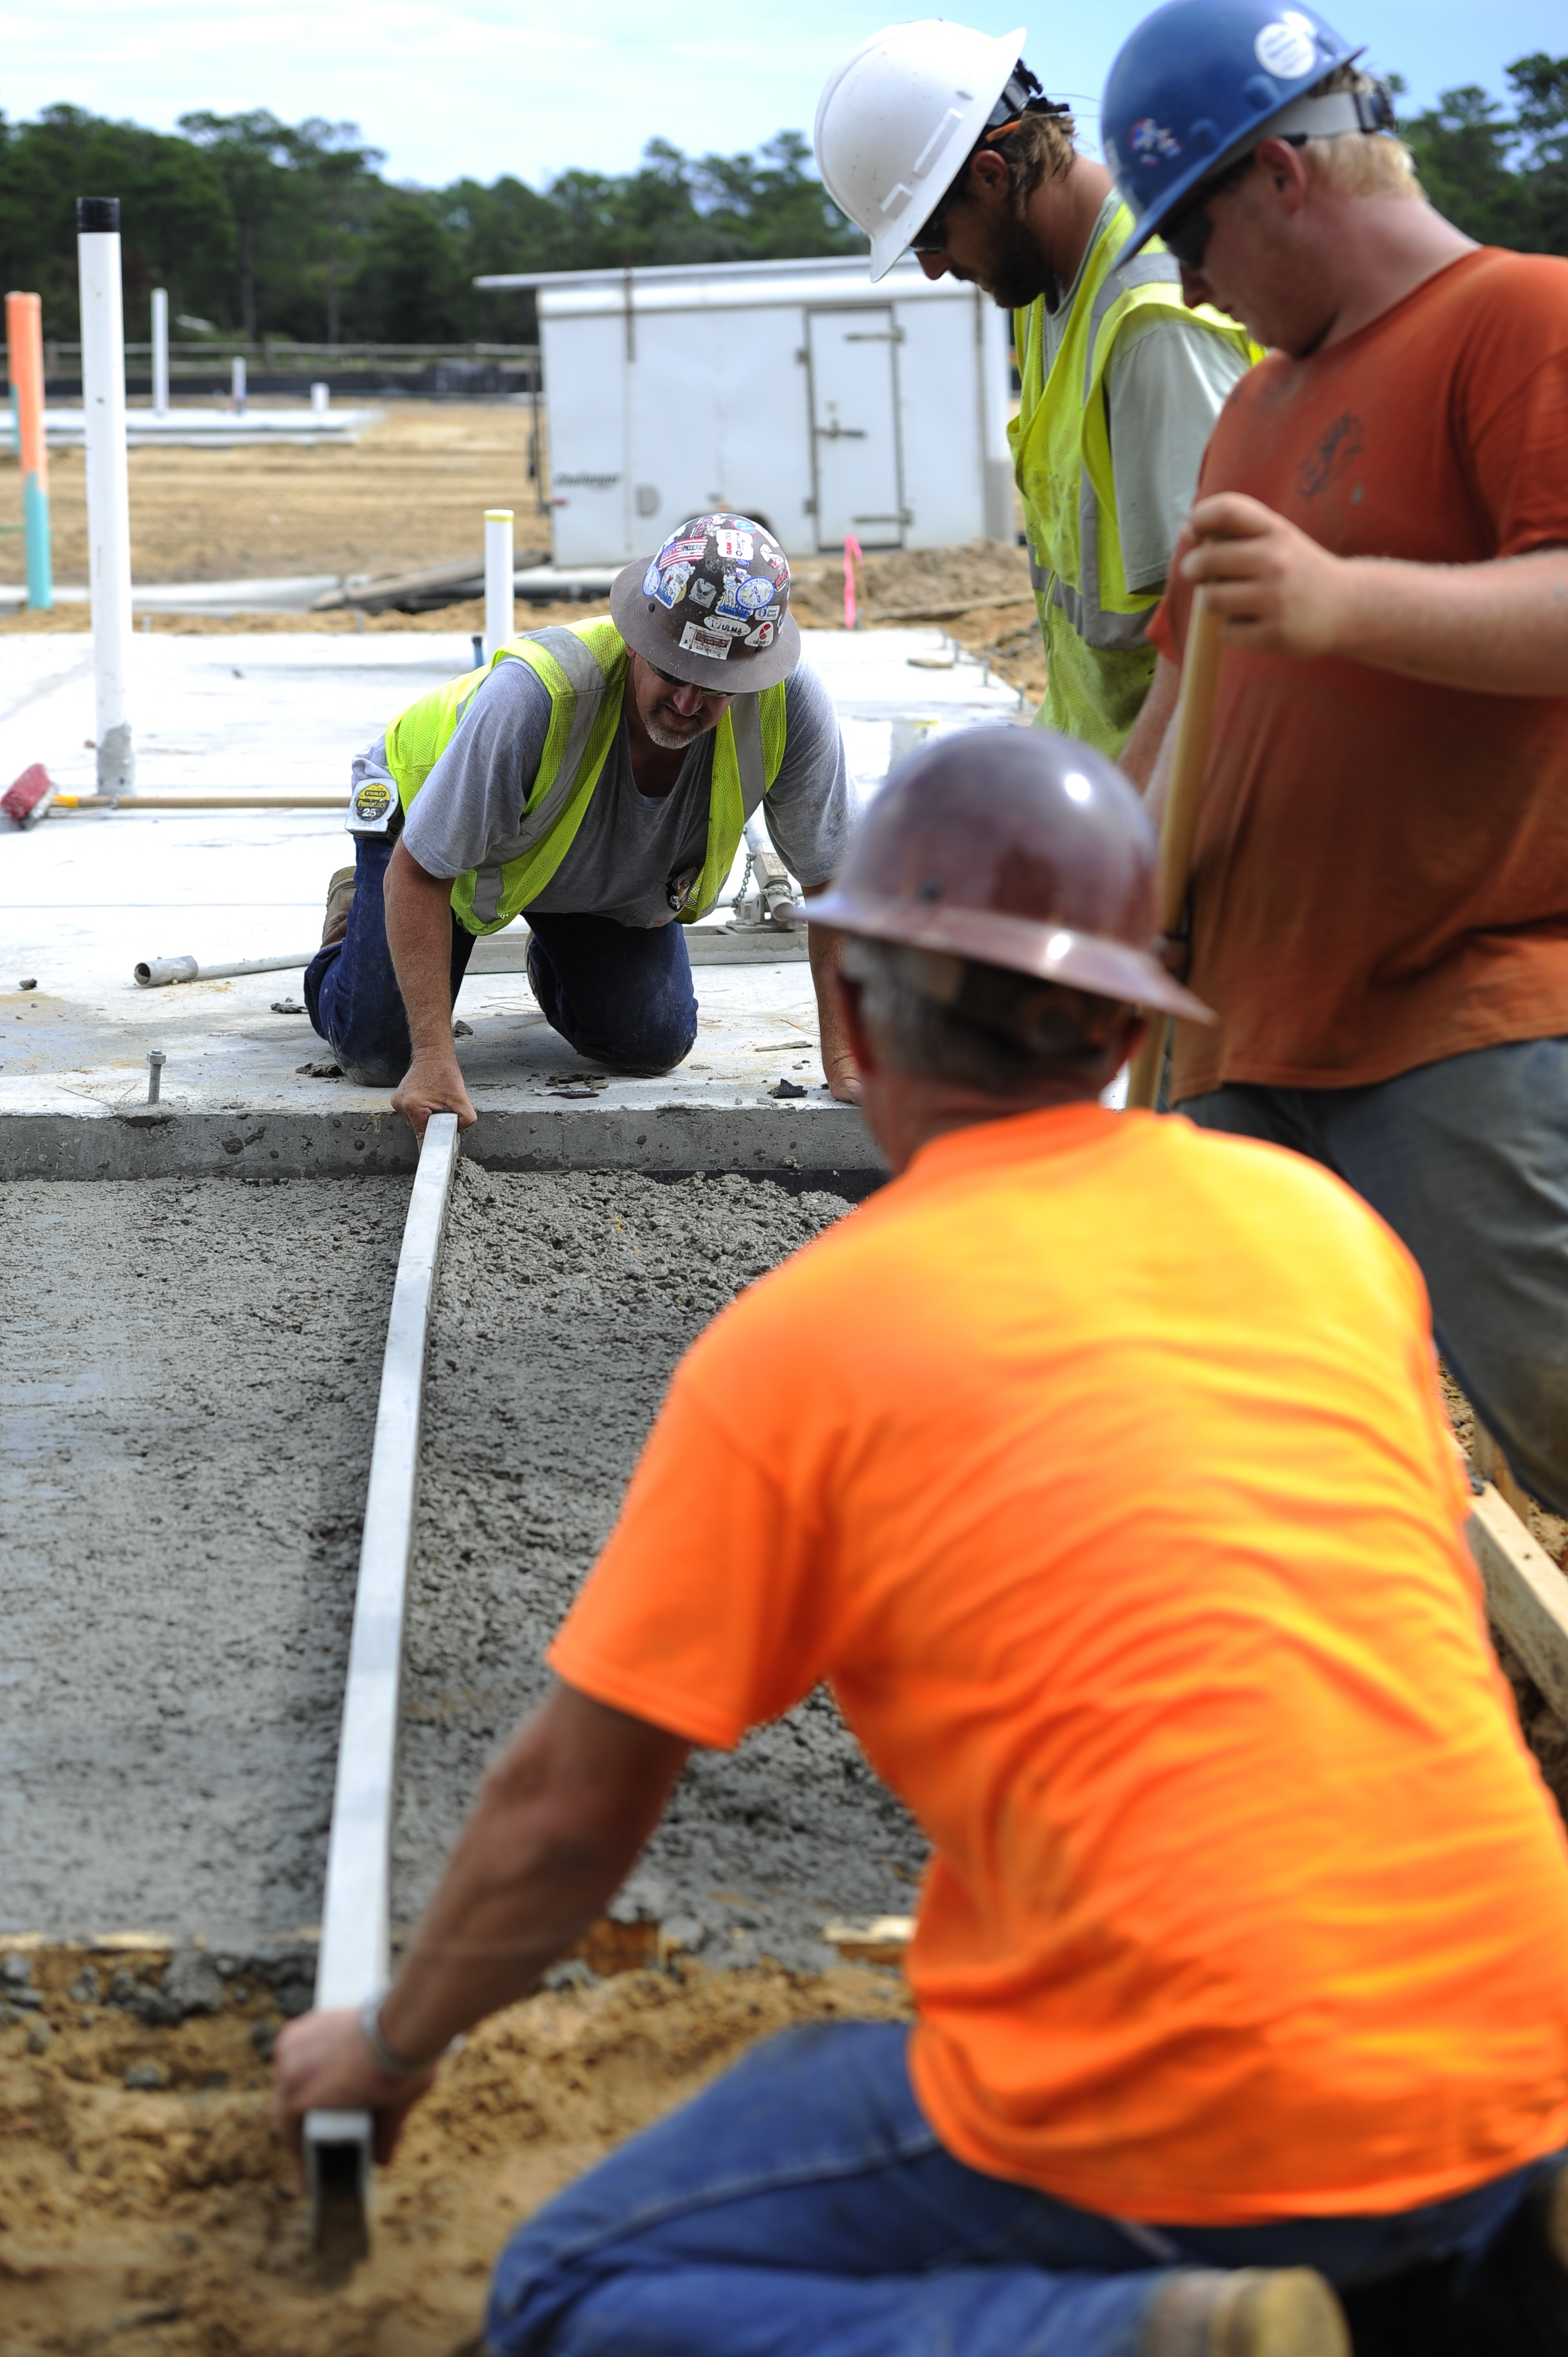blue: (1099, 16, 1402, 345)
red: (810, 728, 1176, 1118), (614, 523, 798, 751)
white: (812, 28, 1073, 322)
